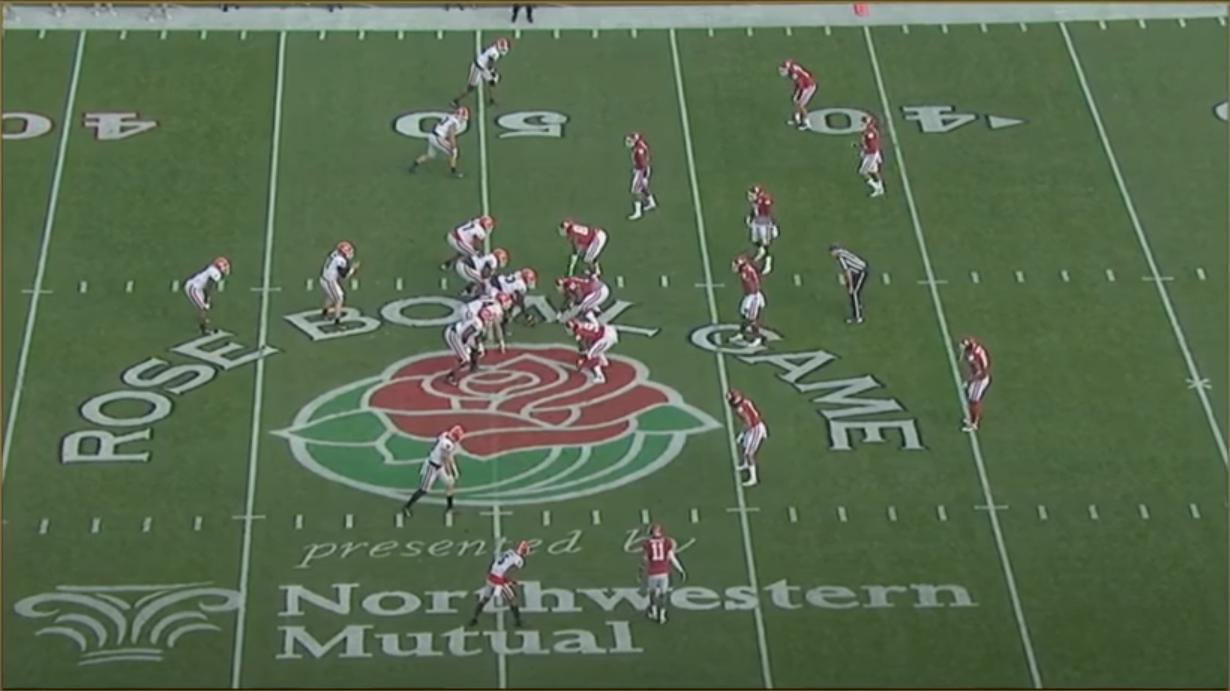defense: (636, 524, 687, 624), (725, 255, 773, 351), (722, 385, 766, 488), (562, 312, 615, 387), (957, 336, 995, 435), (739, 183, 779, 275), (627, 129, 665, 222), (554, 214, 607, 280), (781, 56, 820, 133), (858, 114, 891, 201), (552, 275, 607, 324)
oline: (447, 310, 495, 388), (445, 211, 500, 272), (461, 292, 511, 354), (487, 269, 538, 327), (457, 247, 510, 301)
qb: (318, 241, 362, 333)
ref: (826, 241, 871, 327)
skill: (399, 423, 465, 522), (406, 104, 471, 182), (470, 540, 534, 614), (451, 36, 512, 112), (177, 255, 230, 340)
